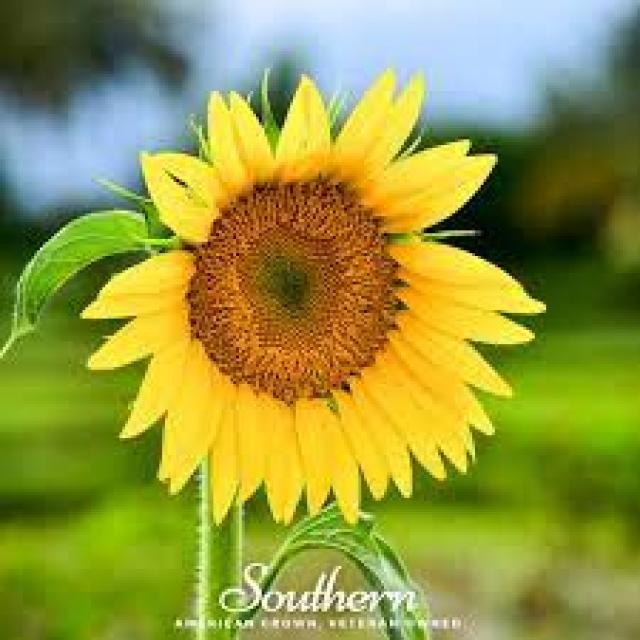sunflower: (68, 61, 552, 536)
